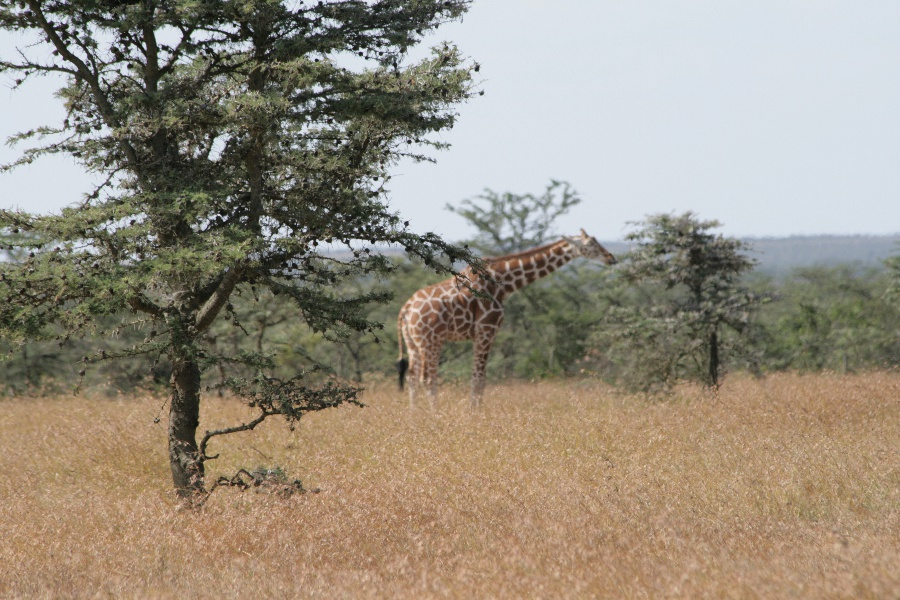giraffe: (392, 218, 627, 427)
